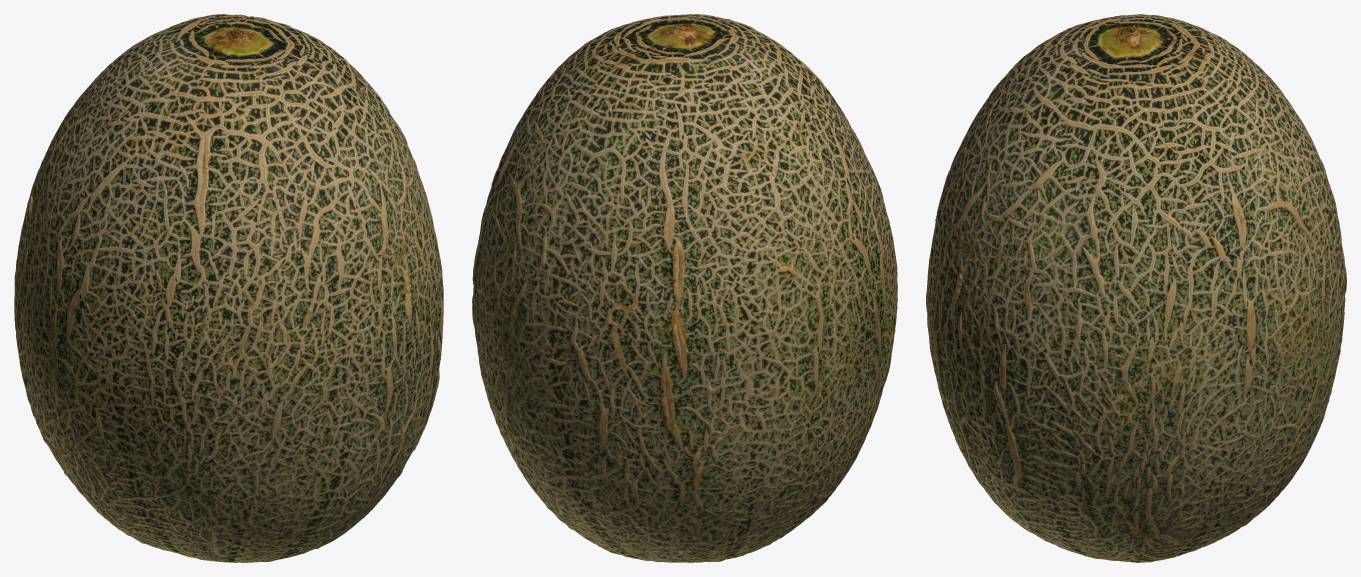
File: melon_enemy.glb
3 renders of one model, left to right at view 1: azimuth 30°, elevation 25°; view 2: azimuth 150°, elevation 25°; view 3: azimuth 270°, elevation 25°, orthographic.
Parts seen in each view (by area): view 1: Object_5, Object_4, Object_3, Object_2; view 2: Object_3, Object_4, Object_2, Object_5; view 3: Object_3, Object_4, Object_5, Object_2.
Boxes of the visible parts, <box> form: Object_5: <box>23,92,443,462</box>; Object_4: <box>14,14,443,561</box>; Object_3: <box>18,20,439,427</box>; Object_2: <box>21,373,433,562</box>; Object_3: <box>472,19,896,462</box>; Object_4: <box>472,14,895,561</box>; Object_2: <box>488,380,885,562</box>; Object_5: <box>475,41,897,453</box>; Object_3: <box>1025,17,1346,476</box>; Object_4: <box>953,14,1345,555</box>; Object_5: <box>926,44,1318,458</box>; Object_2: <box>939,389,1331,562</box>.
Size of the model in its own units: 0.139 by 0.1825 by 0.1366.
4 materials, 4 textured.
